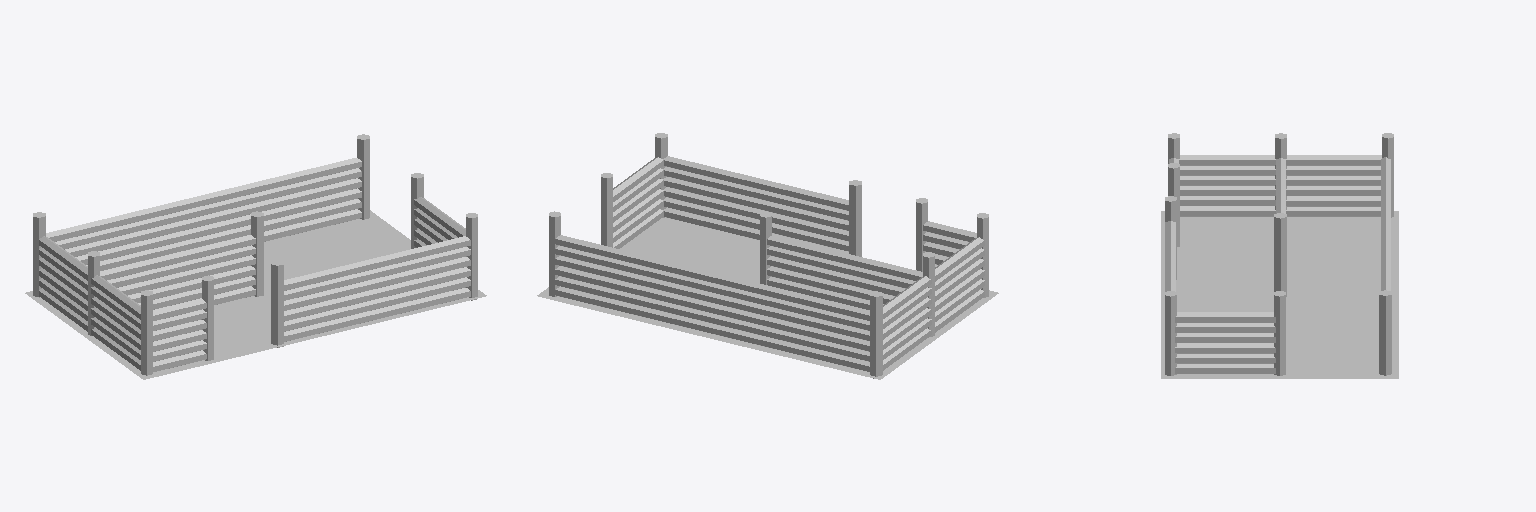
File: HauseMediumRuin.obj
3 views of the same model, side by side, from view 1: azimuth 30°, elevation 25°; view 2: azimuth 150°, elevation 25°; view 3: azimuth 270°, elevation 25° (orthographic).
Visible parts, largest first — view 1: Plane.003; view 2: Plane.003; view 3: Plane.003.
Boxes of the visible parts, x1,y1,x2,y2 form: Plane.003: [25, 134, 486, 379]; Plane.003: [537, 133, 998, 379]; Plane.003: [1161, 133, 1398, 378].
Bounding box in the file's own units: 10 × 2.28 × 6.